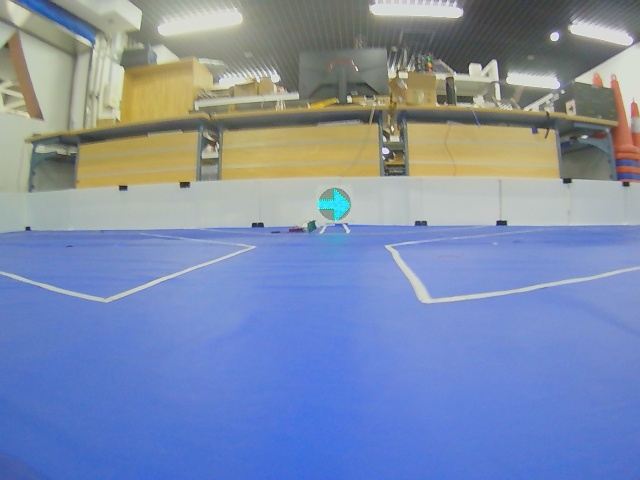right_green: (318, 188, 351, 222)
